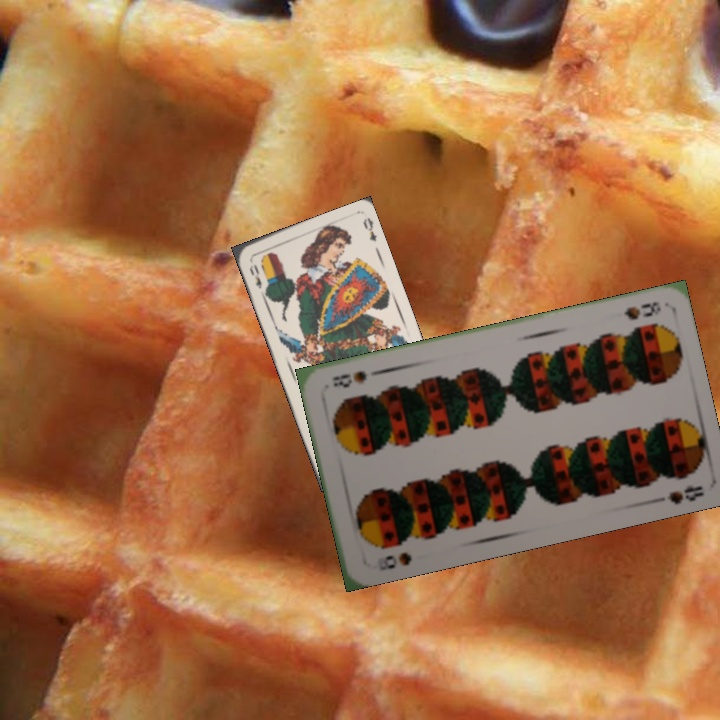EO: (245, 260, 264, 291)
S8: (620, 297, 664, 323), (381, 548, 415, 572)
